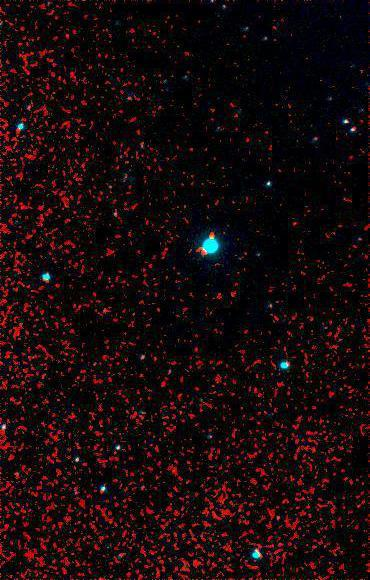star: (198, 219, 228, 249)
